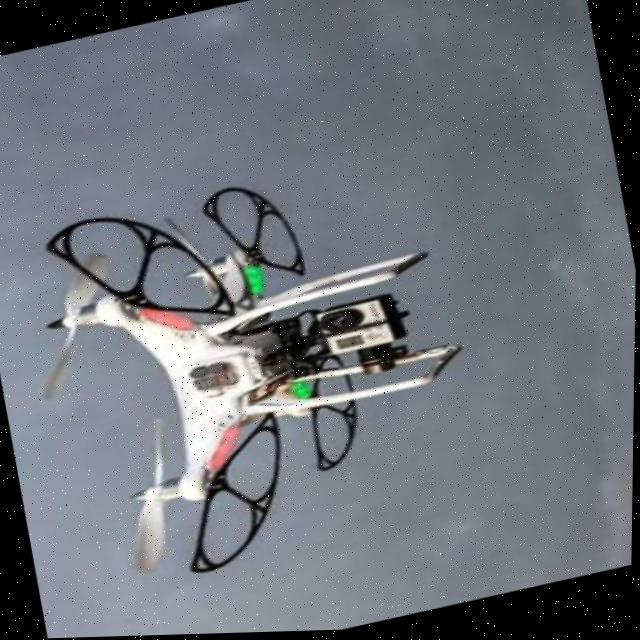drones: (0, 132, 468, 610)
